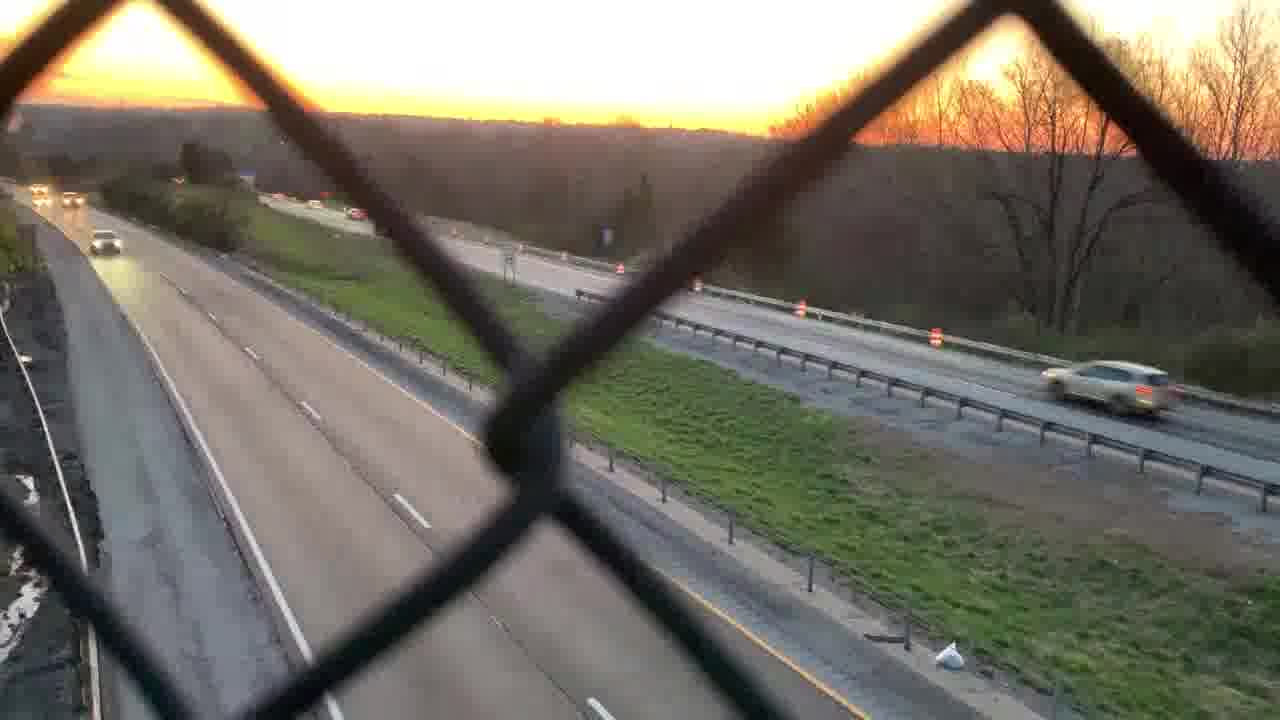largeCar: (1039, 356, 1185, 422)
vehicle: (88, 231, 123, 258), (60, 190, 89, 207), (345, 204, 369, 222), (301, 197, 328, 213), (267, 186, 289, 203), (30, 180, 48, 196), (31, 198, 50, 209)
